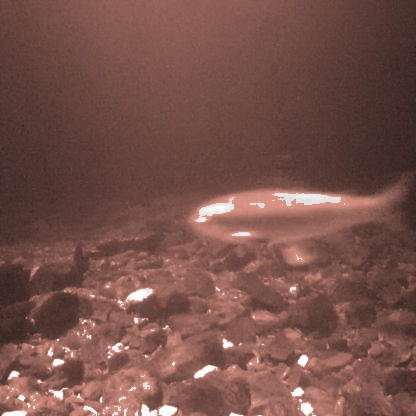salmon: (186, 170, 415, 256)
